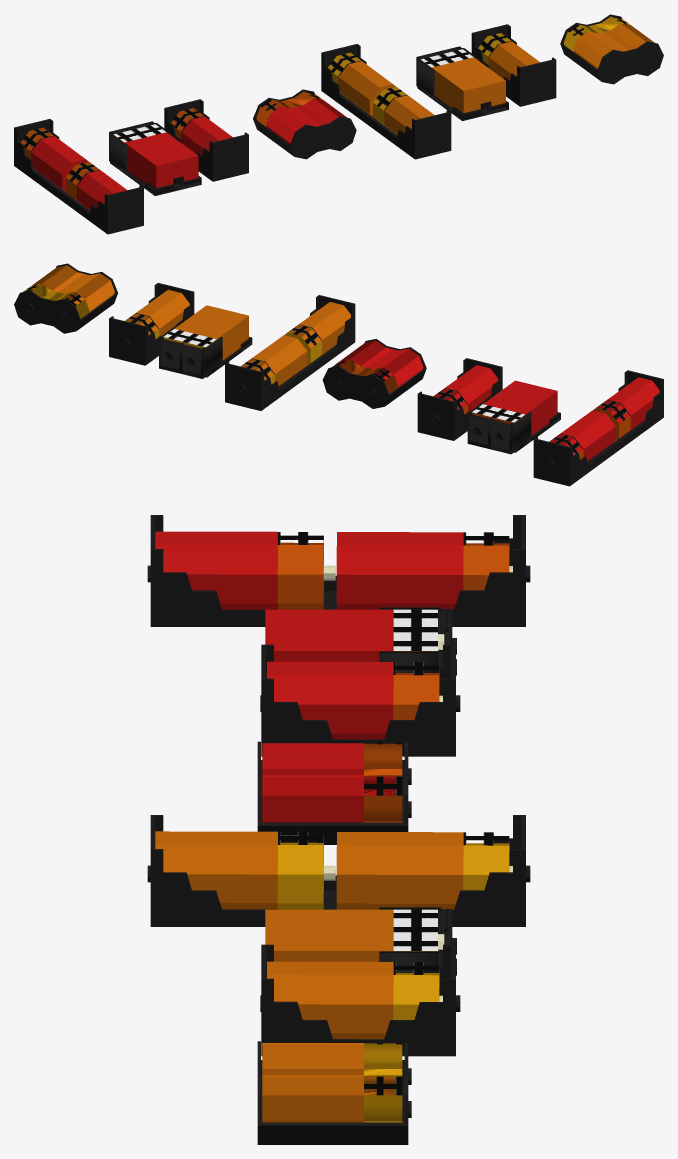
File: Batteries.fbx
3 renders of one model, top to bottom at view 1: azimuth 30°, elevation 25°; view 2: azimuth 150°, elevation 25°; view 3: azimuth 270°, elevation 25°, orthographic. The views are drawn at different scales.
Parts seen in each view (by area): view 1: Adapter, Adapter_5, body, body_2, Adapter_2, Adapter_6, 3_volt_battery, 3_volt_battery_2, 3_volt_battery_1_2, 3_volt_battery_1, 1_5_volt_battery_4, 1_5_volt_battery (+6 smaller); view 2: Adapter_5, Adapter, body, body_2, 3_volt_battery, 3_volt_battery_2, Adapter_6, Adapter_2, 3_volt_battery_1_2, 3_volt_battery_1, Adapter_8, Adapter_4 (+6 smaller); view 3: 1_5_volt_battery_4, 1_5_volt_battery, 3_volt_battery, 3_volt_battery_2, 1_5_volt_battery_2, 1_5_volt_battery_5, 1_5_volt_battery_3, 1_5_volt_battery_6, Adapter, Adapter_5, body, body_2 (+6 smaller).
Boxes of the visible parts, x1,y1,x2,y2 form: Adapter: (321, 44, 451, 159); Adapter_5: (14, 119, 143, 234); body: (420, 49, 505, 113); body_2: (113, 124, 198, 187); Adapter_2: (471, 24, 556, 106); Adapter_6: (164, 99, 248, 181); 3_volt_battery: (563, 16, 654, 69); 3_volt_battery_2: (256, 91, 347, 144); 3_volt_battery_1_2: (253, 89, 356, 159); 3_volt_battery_1: (560, 14, 663, 84); 1_5_volt_battery_4: (20, 127, 88, 195); 1_5_volt_battery: (328, 52, 395, 121); Adapter_5: (533, 370, 663, 486); Adapter: (225, 295, 355, 410); body: (163, 305, 248, 360); body_2: (472, 380, 557, 435); 3_volt_battery: (23, 265, 114, 318); 3_volt_battery_2: (332, 340, 423, 393); Adapter_6: (417, 358, 502, 440); Adapter_2: (109, 283, 194, 365); 3_volt_battery_1_2: (322, 339, 426, 408); 3_volt_battery_1: (14, 263, 117, 333); Adapter_8: (467, 401, 560, 454); Adapter_4: (159, 325, 252, 378); 1_5_volt_battery_4: (336, 532, 509, 609); 1_5_volt_battery: (336, 832, 509, 909); 3_volt_battery: (262, 1043, 402, 1122); 3_volt_battery_2: (262, 743, 402, 822); 1_5_volt_battery_2: (155, 831, 323, 909); 1_5_volt_battery_5: (155, 531, 323, 609); 1_5_volt_battery_3: (267, 961, 439, 1039); 1_5_volt_battery_6: (267, 661, 439, 739); Adapter: (150, 815, 525, 926); Adapter_5: (150, 515, 525, 626); body: (265, 909, 437, 961); body_2: (265, 609, 437, 661).
Bounding box in the file's own units: 127 × 8.04 × 36.15.
Materials: 18 (12 with a texture image).
